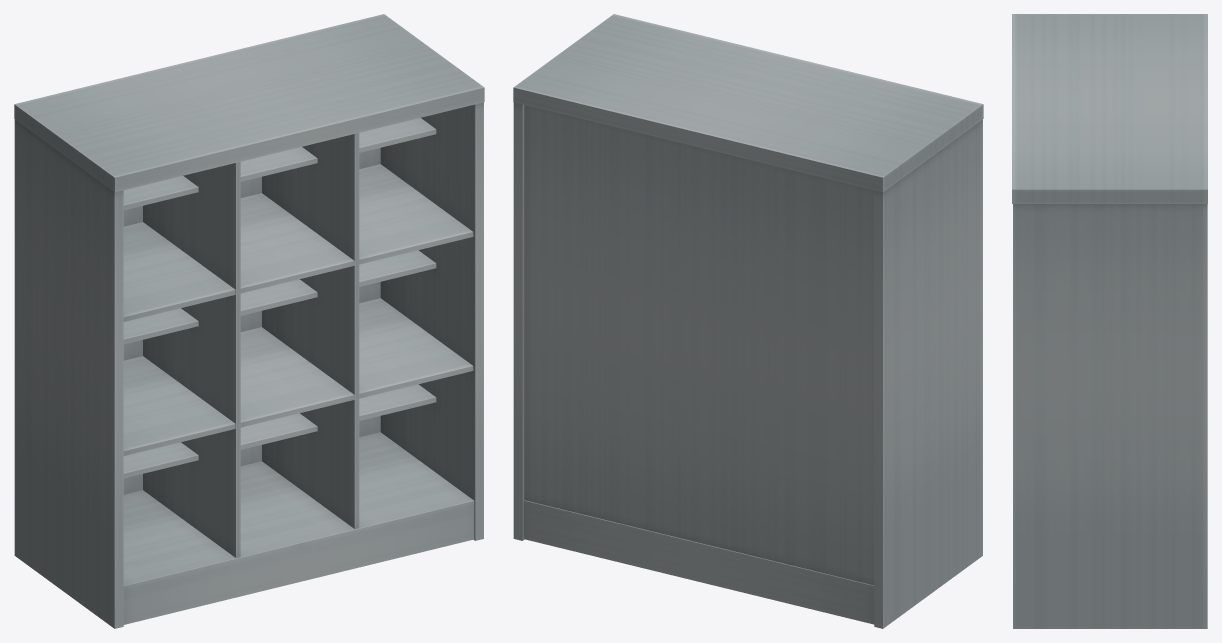
File: set_shoecupboard_a_16.fbx
3 views of the same model, side by side, from view 1: azimuth 30°, elevation 25°; view 2: azimuth 150°, elevation 25°; view 3: azimuth 270°, elevation 25° (orthographic). The views are drawn at different scales.
Parts seen in each view (by area): view 1: set_shoecupboard_a_16; view 2: set_shoecupboard_a_16; view 3: set_shoecupboard_a_16.
Boxes of the visible parts, x1,y1,x2,y2 form: set_shoecupboard_a_16: (14, 14, 484, 628); set_shoecupboard_a_16: (513, 14, 983, 628); set_shoecupboard_a_16: (1012, 14, 1207, 628).
Bounding box in the file's own units: 79.39 × 92.62 × 37.38.
